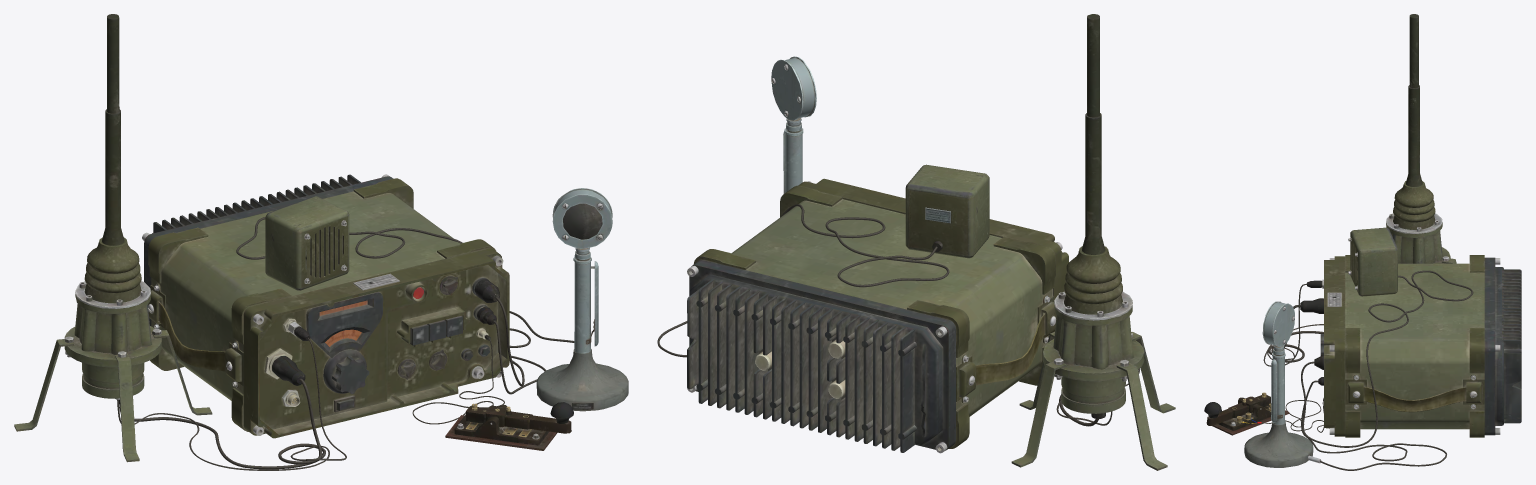
The model's file is vintage_radio_transceiver.glb.
3 views of the same model, side by side, from view 1: azimuth 30°, elevation 25°; view 2: azimuth 150°, elevation 25°; view 3: azimuth 270°, elevation 25° (orthographic). The views are drawn at different scales.
Parts seen in each view (by area): view 1: vintage_radio_transceiver, vintage_radio_transceiver_cable; view 2: vintage_radio_transceiver, vintage_radio_transceiver_cable; view 3: vintage_radio_transceiver, vintage_radio_transceiver_cable.
Part boxes in pixels (box(x1,y1,x2,y2)): vintage_radio_transceiver: box(142, 174, 509, 438); vintage_radio_transceiver_cable: box(14, 14, 628, 470); vintage_radio_transceiver: box(687, 178, 1068, 453); vintage_radio_transceiver_cable: box(657, 14, 1175, 470); vintage_radio_transceiver: box(1320, 255, 1521, 437); vintage_radio_transceiver_cable: box(1204, 14, 1473, 470).
Bounding box in the file's own units: 0.574 × 0.4344 × 0.4131.
Materials: 2 (2 with a texture image).
